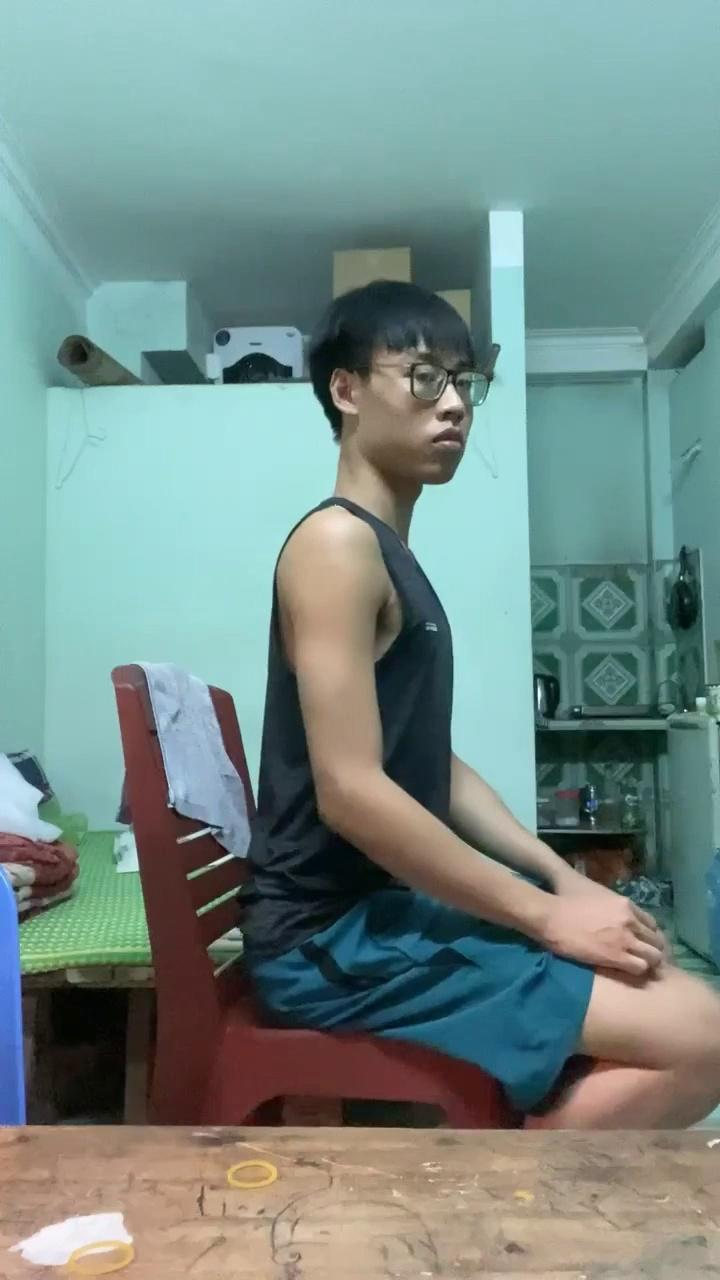GoodPosture: (250, 281, 719, 1127)
